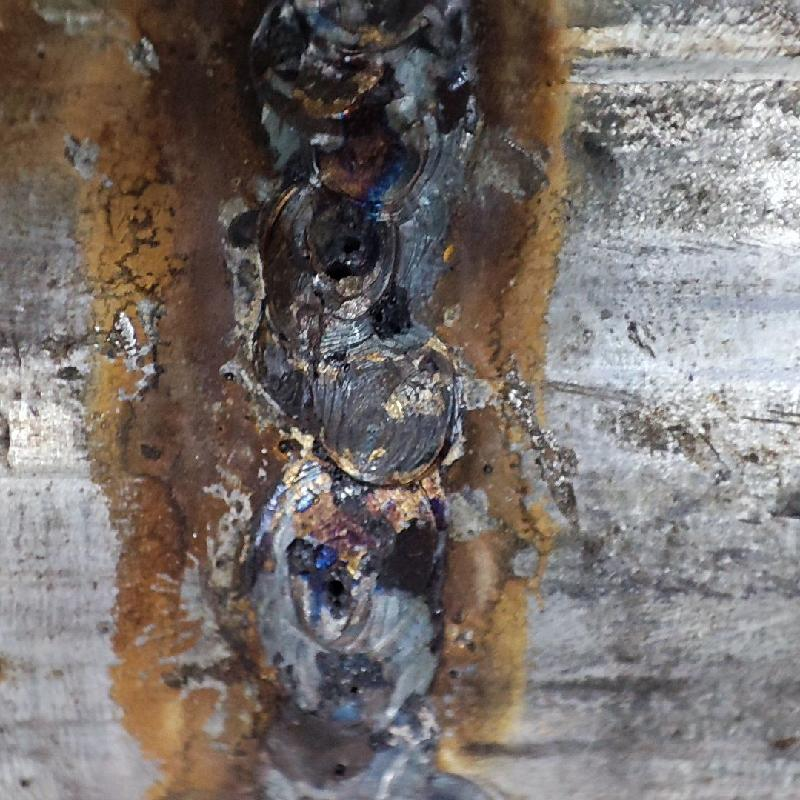Not_fully_soldered: (249, 336, 449, 799)
Surface_pores: (318, 220, 378, 290), (328, 659, 381, 715), (316, 747, 373, 789)
crater: (245, 1, 423, 304)
